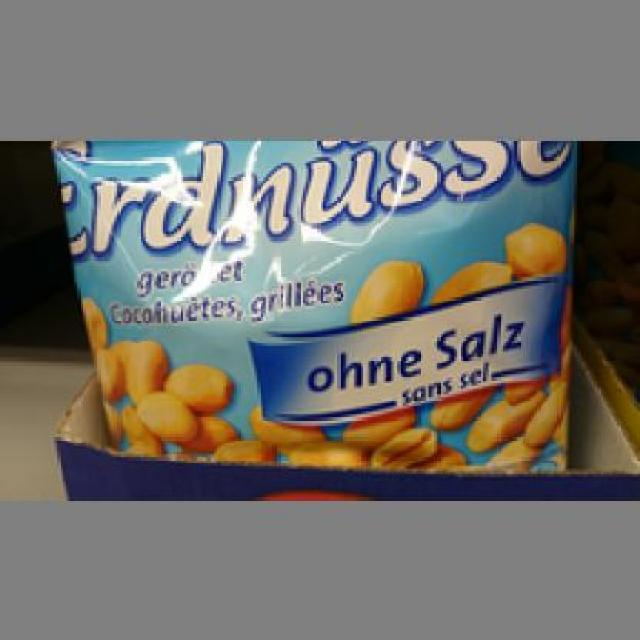Nuts: (45, 137, 578, 470)
